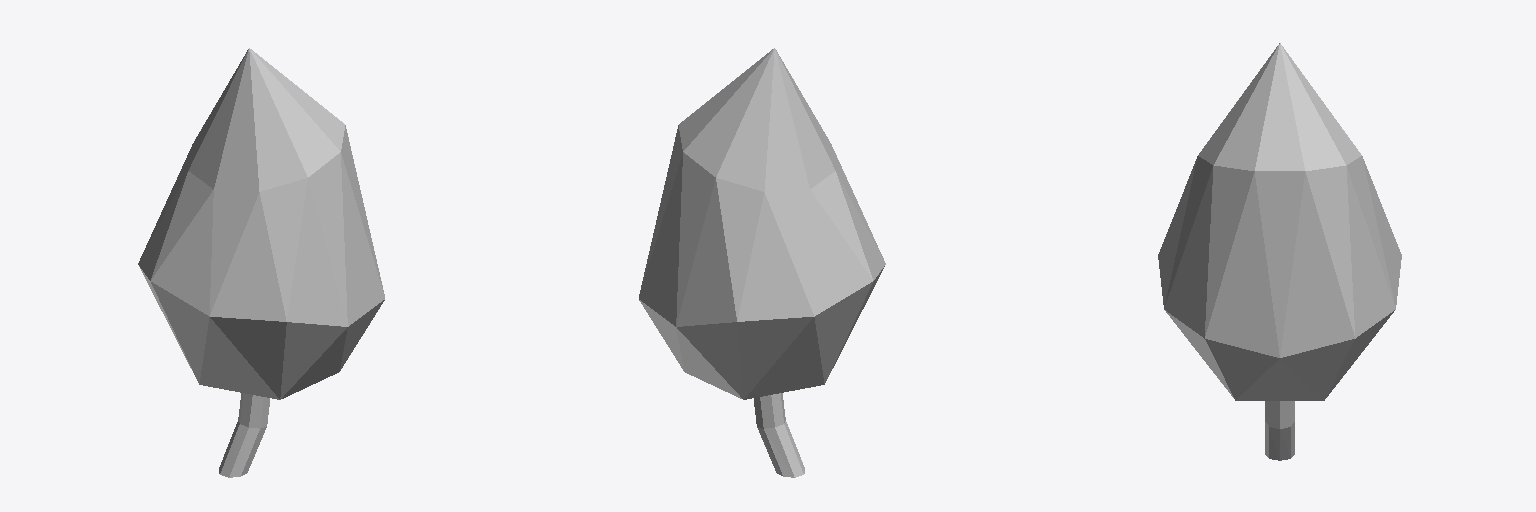
Rendered from small_bush.obj.
The picture shows the model from 3 angles: view 1: azimuth 30°, elevation 25°; view 2: azimuth 150°, elevation 25°; view 3: azimuth 270°, elevation 25°; orthographic projection.
Visible parts, largest first — view 1: Tree_1_Cylinder.004; view 2: Tree_1_Cylinder.004; view 3: Tree_1_Cylinder.004.
Part boxes in pixels (bbox=[...]): Tree_1_Cylinder.004: bbox=[138, 48, 384, 477]; Tree_1_Cylinder.004: bbox=[639, 48, 885, 477]; Tree_1_Cylinder.004: bbox=[1158, 43, 1401, 460].
Bounding box in the file's own units: 0.4827 × 0.9173 × 0.4826.